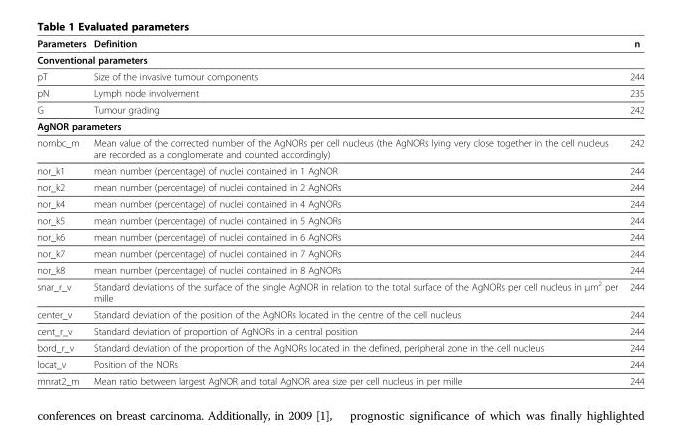table: (36, 37, 643, 386)
table column: (89, 37, 623, 386), (36, 37, 89, 386), (623, 37, 643, 386)
table column header: (36, 37, 643, 51)
table projected row header: (36, 117, 643, 134), (36, 51, 643, 67)
table row: (36, 134, 643, 162), (36, 277, 643, 305), (36, 67, 643, 84), (36, 84, 643, 101), (36, 117, 643, 134), (36, 178, 643, 195), (36, 211, 643, 228), (36, 244, 643, 261), (36, 305, 643, 322), (36, 322, 643, 339), (36, 355, 643, 372), (36, 51, 643, 67), (36, 101, 643, 117), (36, 162, 643, 178), (36, 195, 643, 211), (36, 228, 643, 244), (36, 261, 643, 277), (36, 339, 643, 355), (36, 37, 643, 51), (36, 372, 643, 386)
